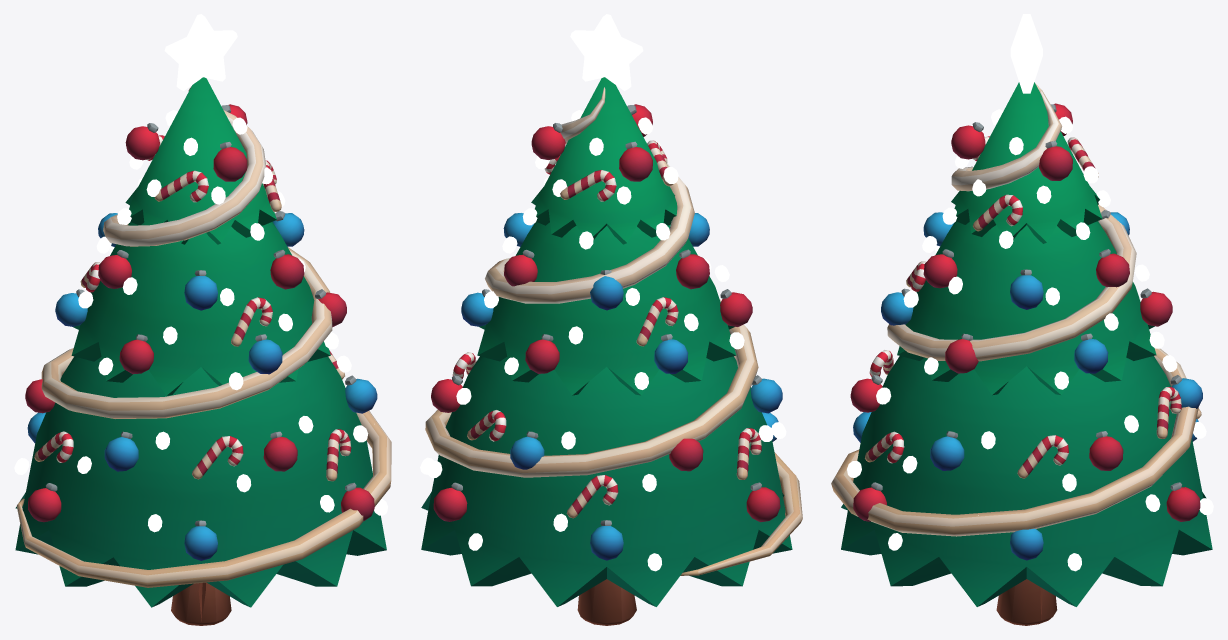
File: christmas_tree.gltf
3 renders of one model, left to right at view 1: azimuth 30°, elevation 25°; view 2: azimuth 150°, elevation 25°; view 3: azimuth 270°, elevation 25°, orthographic.
Visible parts, largest first — view 1: christmas_tree; view 2: christmas_tree; view 3: christmas_tree.
Boxes of the visible parts, x1,y1,x2,y2 form: christmas_tree: (14, 14, 391, 625); christmas_tree: (420, 14, 802, 625); christmas_tree: (831, 14, 1213, 625).
Size of the model in its own units: 2.41 by 4.03 by 2.33.
Materials: 2 (2 with a texture image).
